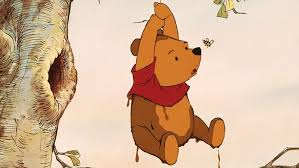Winnie: (130, 24, 202, 104)
